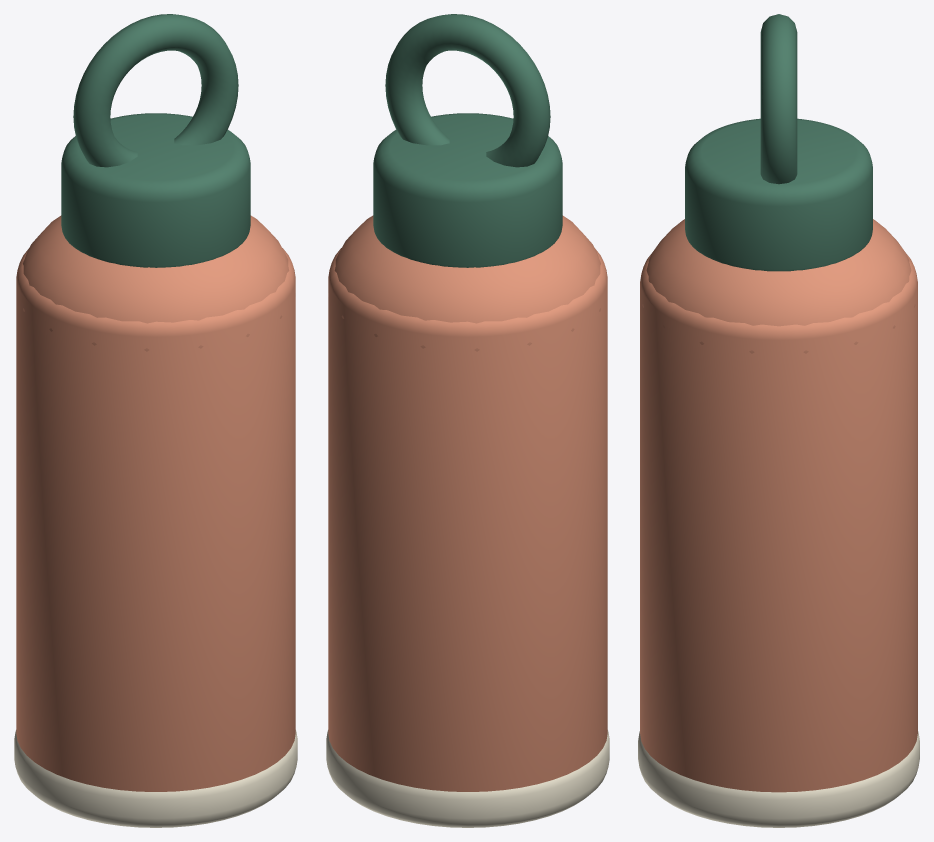
File: bottle.glb
3 renders of one model, left to right at view 1: azimuth 30°, elevation 25°; view 2: azimuth 150°, elevation 25°; view 3: azimuth 270°, elevation 25°, orthographic.
Visible parts, largest first — view 1: Bottle, Cap, Shoulder, Carry loop, Foot; view 2: Bottle, Cap, Shoulder, Carry loop, Foot; view 3: Bottle, Cap, Shoulder, Foot, Carry loop.
Part boxes in pixels (x1=…): Bottle: x1=16, y1=248, x2=295, y2=791; Cap: x1=61, y1=113, x2=250, y2=267; Shoulder: x1=23, y1=215, x2=295, y2=351; Carry loop: x1=73, y1=14, x2=238, y2=167; Foot: x1=14, y1=730, x2=297, y2=827; Bottle: x1=328, y1=248, x2=607, y2=791; Cap: x1=373, y1=113, x2=562, y2=267; Shoulder: x1=328, y1=215, x2=600, y2=351; Carry loop: x1=385, y1=14, x2=550, y2=167; Foot: x1=326, y1=730, x2=609, y2=827; Bottle: x1=640, y1=252, x2=917, y2=792; Cap: x1=685, y1=118, x2=872, y2=271; Shoulder: x1=642, y1=219, x2=915, y2=353; Foot: x1=638, y1=731, x2=919, y2=827; Carry loop: x1=760, y1=14, x2=797, y2=184.
Bounding box in the file's own units: 0.69 × 2.03 × 0.69.
